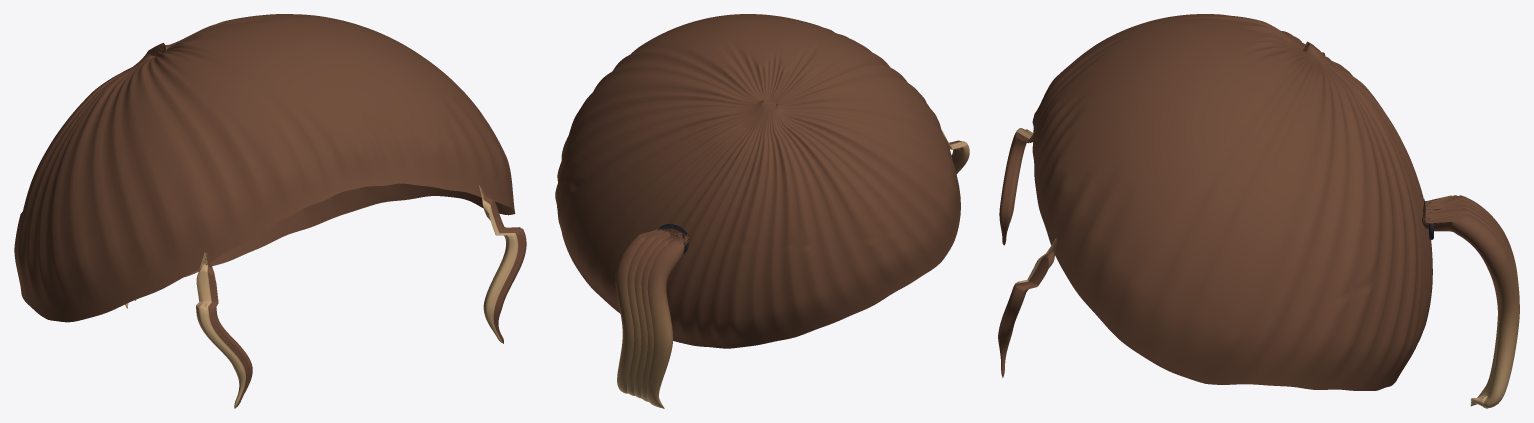
Rendered from Ombre-20f16ecb6b36253-hair.glb.
The picture shows the model from 3 angles, left to right: view 1: azimuth 30°, elevation 25°; view 2: azimuth 150°, elevation 25°; view 3: azimuth 270°, elevation 25°; orthographic projection. The views are drawn at different scales.
Parts seen in each view (by area): view 1: 226 hair / Hair / crisp pulled roots220.002, 226 hair / Hair / sculpted front locks222.002; view 2: 226 hair / Hair / crisp pulled roots220.002, 226 hair / Hair / chestnut226.001, 226 hair / Hair / sculpted front locks222.002; view 3: 226 hair / Hair / crisp pulled roots220.002, 226 hair / Hair / chestnut226.001, 226 hair / Hair / sculpted front locks222.002.
Part boxes in pixels (<box>): 226 hair / Hair / crisp pulled roots220.002: <box>14,14,515,322</box>; 226 hair / Hair / sculpted front locks222.002: <box>196,184,526,408</box>; 226 hair / Hair / crisp pulled roots220.002: <box>555,14,960,348</box>; 226 hair / Hair / chestnut226.001: <box>615,228,690,408</box>; 226 hair / Hair / sculpted front locks222.002: <box>941,130,969,173</box>; 226 hair / Hair / crisp pulled roots220.002: <box>1032,14,1432,390</box>; 226 hair / Hair / chestnut226.001: <box>1422,195,1519,408</box>; 226 hair / Hair / sculpted front locks222.002: <box>998,128,1057,377</box>.
Bounding box in the file's own units: 0.9675 × 0.7594 × 0.9657.
4 materials, 3 textured.
